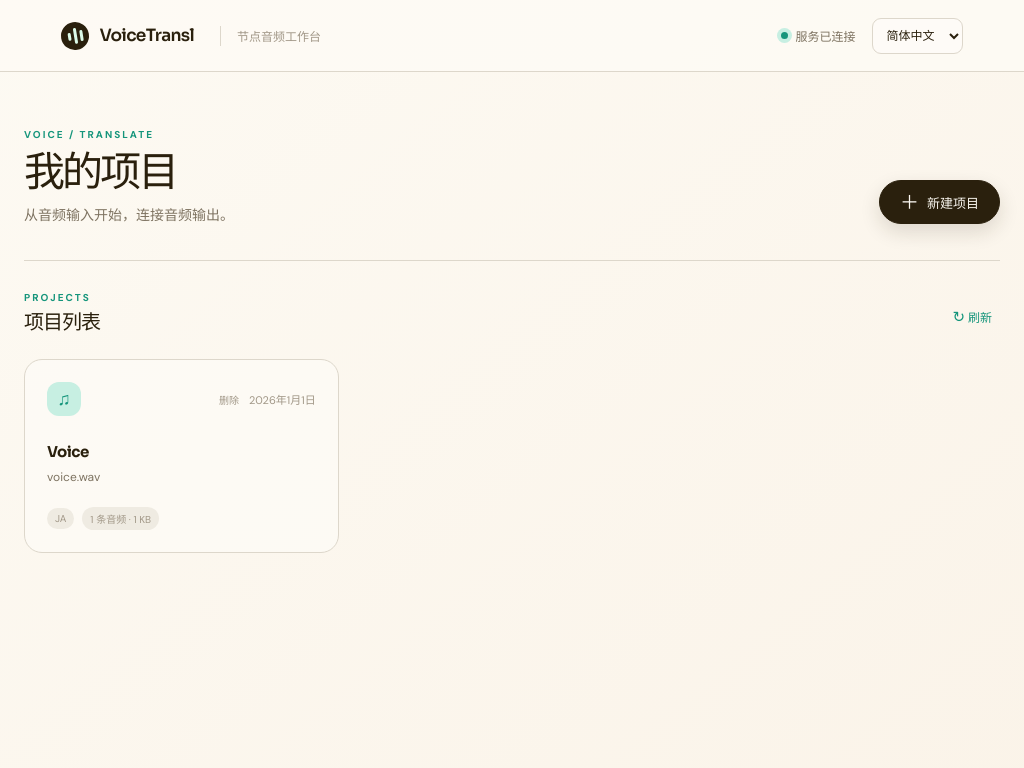
Test: workflow navigation guards › switches workspace language without reloading the selected audio or clearing an unsaved graph
Step 1. Click the 3rd button → (64, 399), box [24, 359, 339, 553]
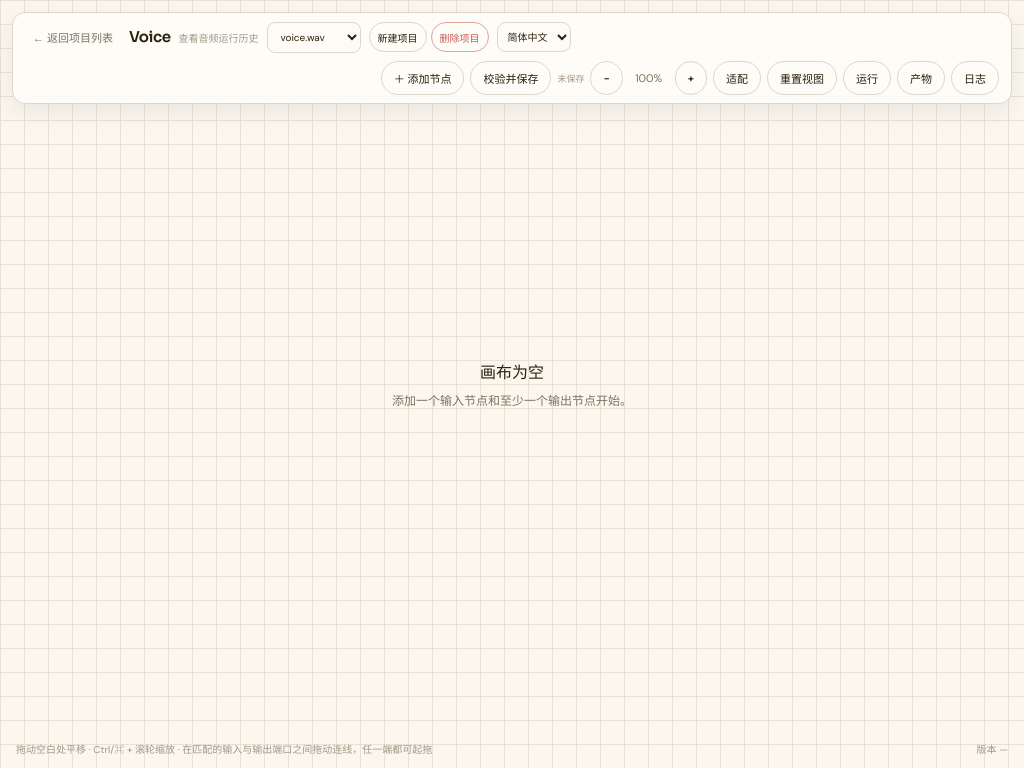
Check: the element with class "workspace" is shown, box [24, 56, 1000, 81]
Check: the element with class "node-workflow" is shown
Step 2. Select "English" in the dropdown with class "locale-picker" → (534, 37), box [496, 22, 570, 52]
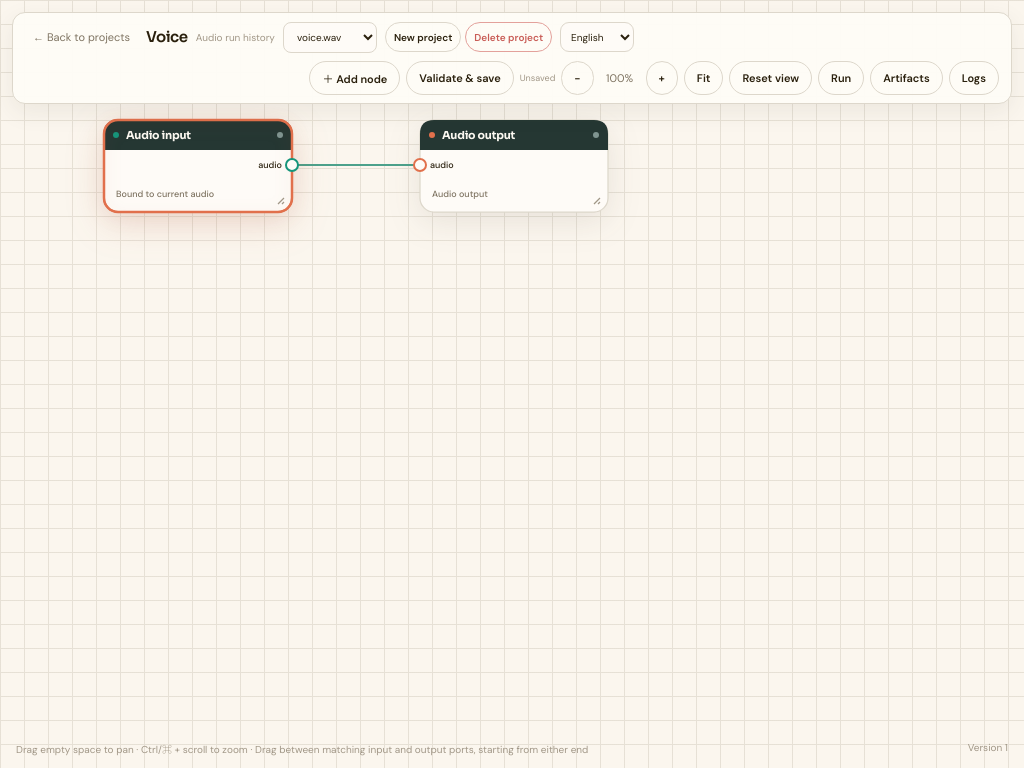
Check: the heading "Voice" is shown, box [146, 27, 188, 47]
Check: the dropdown named "Choose audio to view its history" is shown, box [283, 22, 377, 52]
Check: the button with class "back-button" reads "← Back to projects", box [25, 21, 138, 53]
